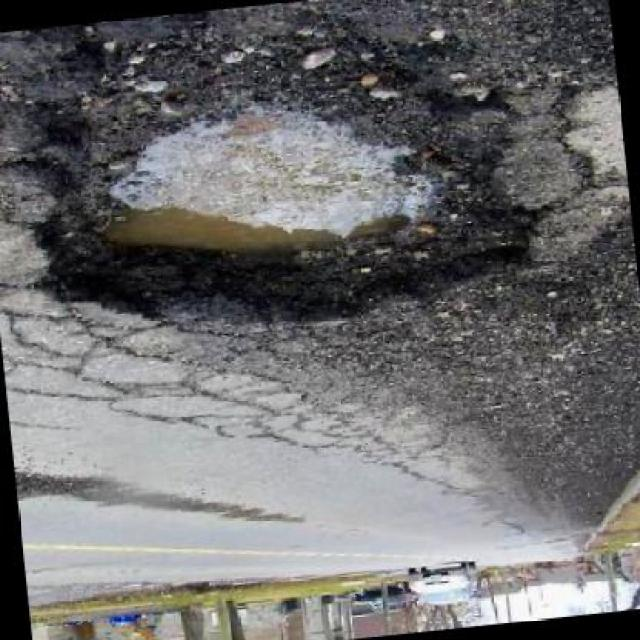pothole1: (0, 0, 546, 357)
